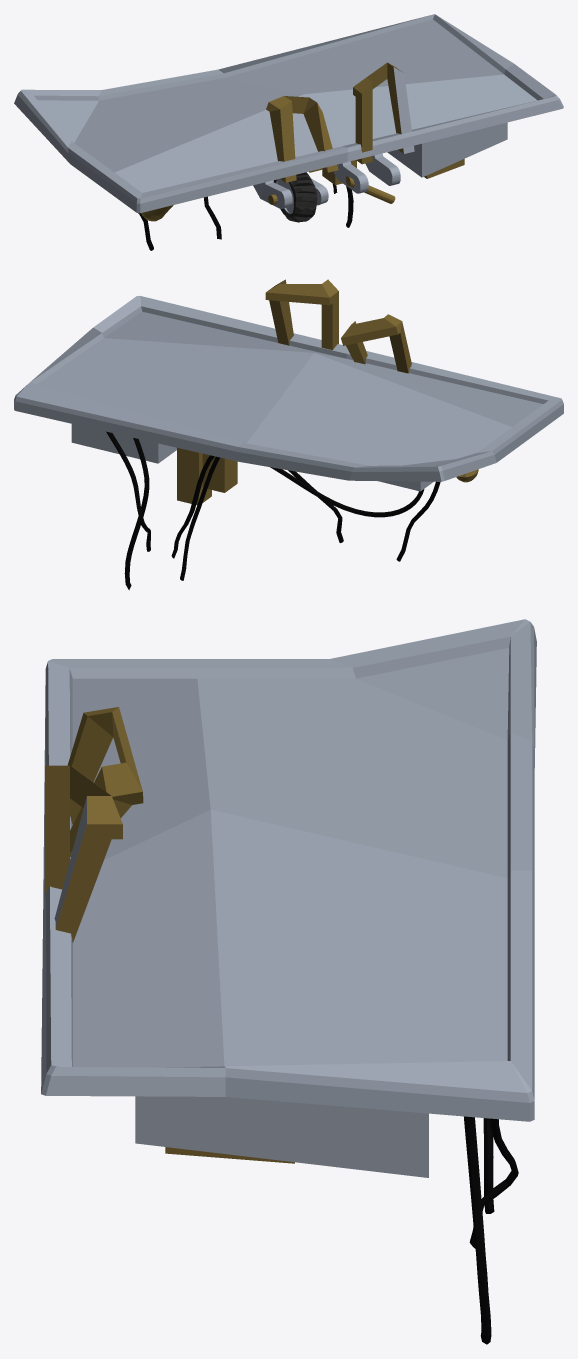
Rendered from lift_item_geometry-panic-factory_001.fbx.
The picture shows the model from 3 angles, top to bottom: view 1: azimuth 30°, elevation 25°; view 2: azimuth 150°, elevation 25°; view 3: azimuth 270°, elevation 25°; orthographic projection. The views are drawn at different scales.
Visible parts, largest first — view 1: lift_item.geometry-panic-factory.001; view 2: lift_item.geometry-panic-factory.001; view 3: lift_item.geometry-panic-factory.001.
Part boxes in pixels (x1,y1,x2,y2): lift_item.geometry-panic-factory.001: (14, 14, 563, 250); lift_item.geometry-panic-factory.001: (14, 279, 563, 590); lift_item.geometry-panic-factory.001: (41, 619, 536, 1344).
Bounding box in the file's own units: 2.02 × 1.12 × 1.01.
